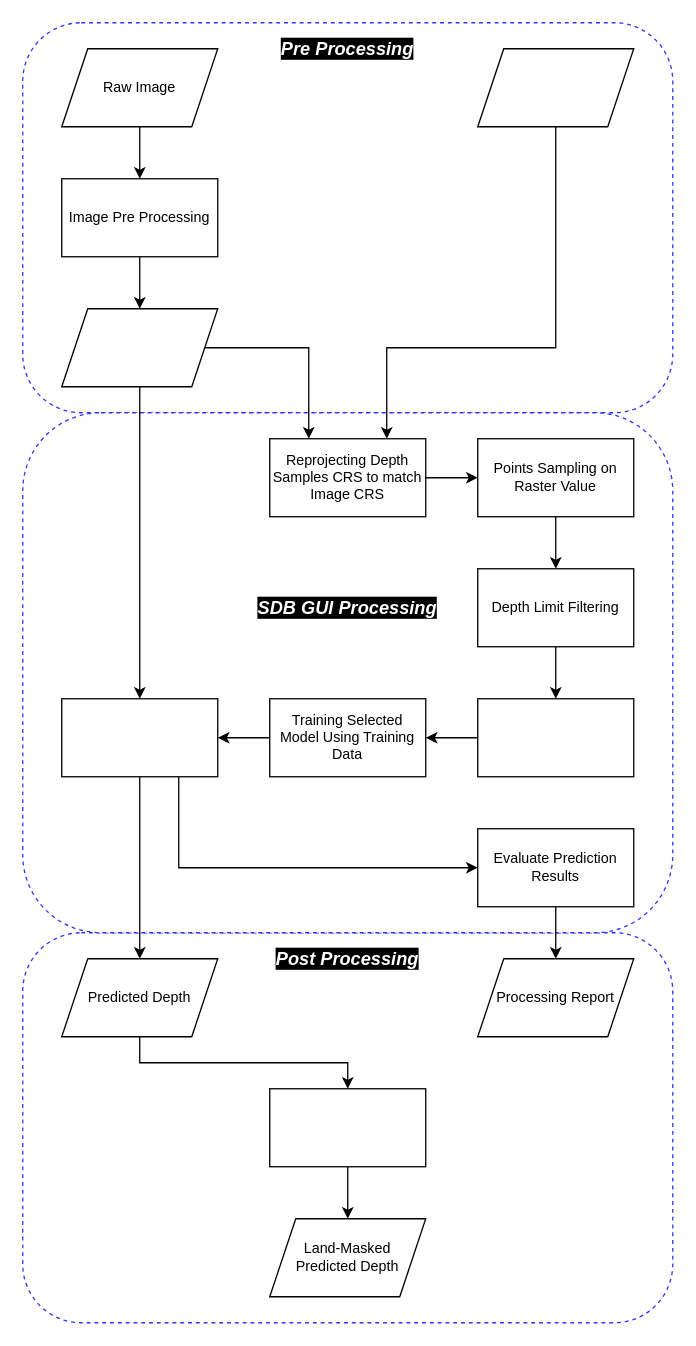
Some shapes in this 696 by 1346 pixel diagram are drawn without their labels. Here are the shapes that lost their labels. From the top down, the centre of each, then its label:
point 555,87: Depth Samples
point 139,347: Georeferenced & Corrected Raster
point 139,737: Depth Prediction Based on Trained Model
point 555,737: Splitting Train & Test Data
point 347,1127: Land Masking
